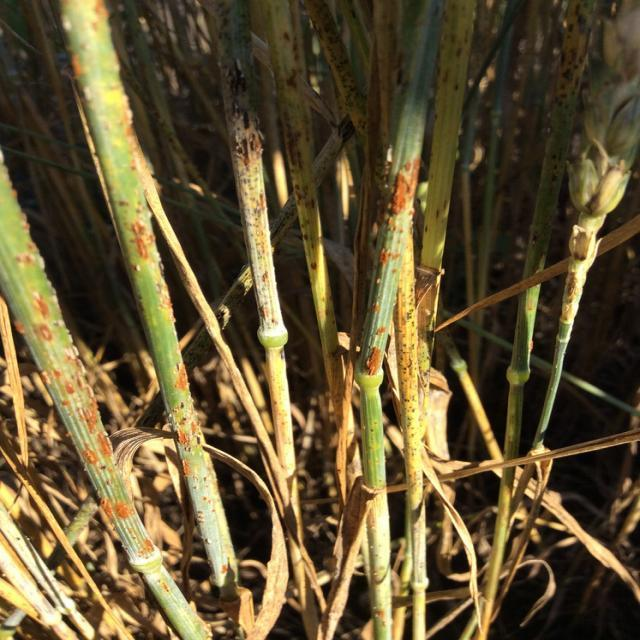Stem Rust: (6, 9, 220, 575), (352, 147, 438, 640), (230, 5, 332, 299)
